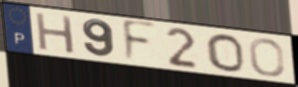2: (164, 26, 203, 71)
9: (80, 17, 117, 59)
F: (121, 18, 160, 64)
H: (33, 11, 77, 56)
O: (204, 33, 247, 74), (247, 37, 287, 78)
